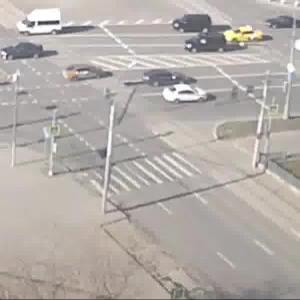car: (62, 55, 106, 86), (144, 68, 196, 93), (172, 13, 219, 37), (1, 39, 47, 63), (186, 31, 224, 57), (24, 11, 61, 36), (168, 85, 208, 107), (225, 31, 268, 46), (270, 17, 299, 31)
